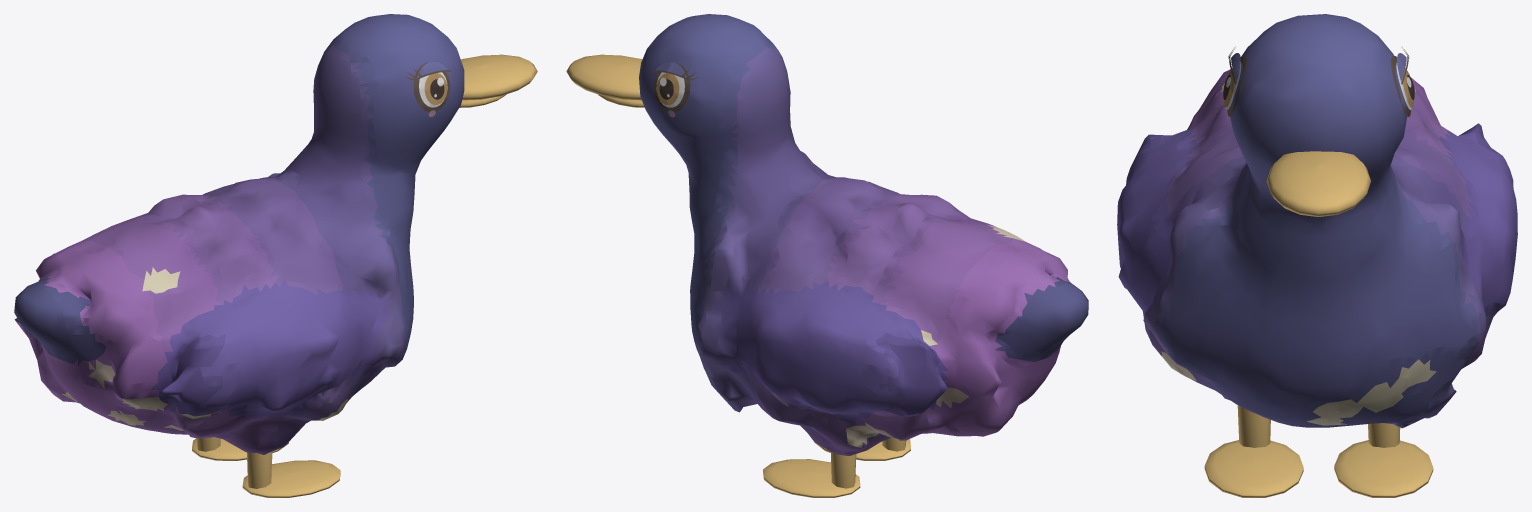
Rendered from galaxy_duck.glb.
The picture shows the model from 3 angles, left to right: view 1: azimuth 30°, elevation 25°; view 2: azimuth 150°, elevation 25°; view 3: azimuth 270°, elevation 25°; orthographic projection. The views are drawn at different scales.
Parts seen in each view (by area): view 1: galaxy_duck; view 2: galaxy_duck; view 3: galaxy_duck.
Boxes of the visible parts, x1=… form: galaxy_duck: x1=14, y1=14, x2=537, y2=497; galaxy_duck: x1=566, y1=14, x2=1088, y2=497; galaxy_duck: x1=1117, y1=14, x2=1517, y2=497.
Size of the model in its own units: 0.5596 by 0.4328 by 0.2967.
